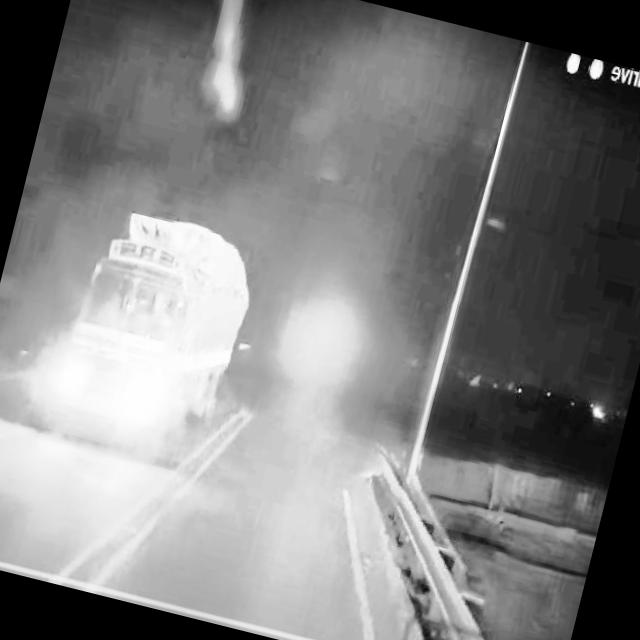Truck: (24, 193, 268, 472)
